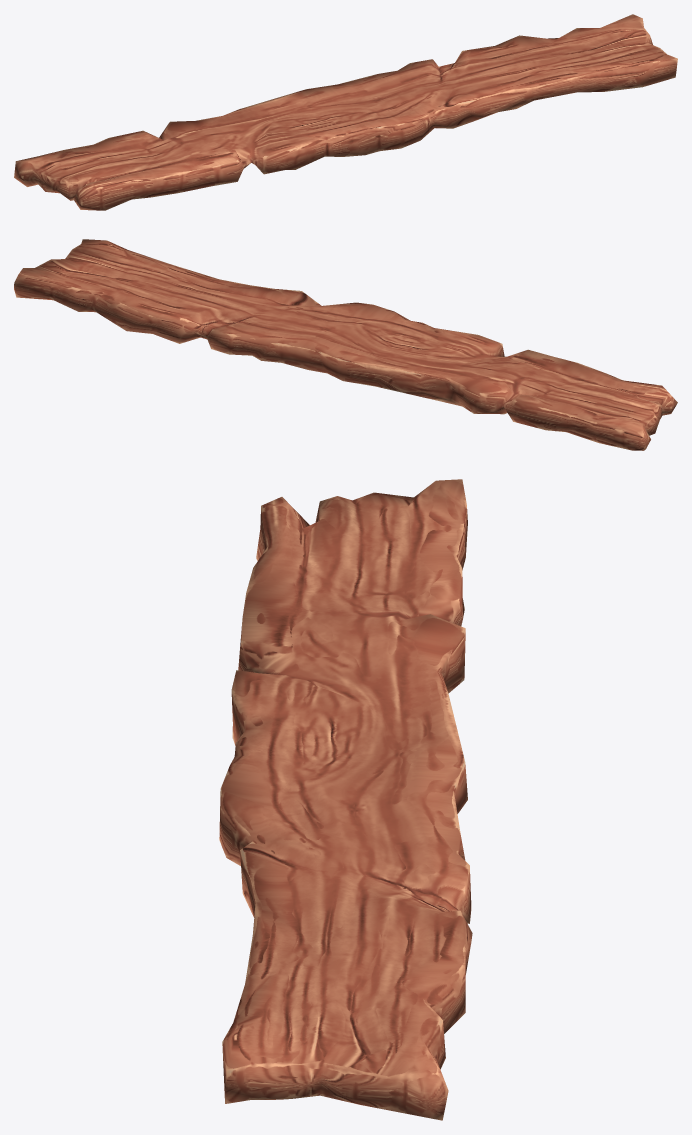
The model's file is plank1.fbx.
3 views of the same model, one above another, from view 1: azimuth 30°, elevation 25°; view 2: azimuth 150°, elevation 25°; view 3: azimuth 270°, elevation 25° (orthographic). The views are drawn at different scales.
Visible parts, largest first — view 1: Wood LP; view 2: Wood LP; view 3: Wood LP.
Boxes of the visible parts, box(x1,y1,x2,y2) form: Wood LP: box(14, 14, 677, 210); Wood LP: box(14, 239, 677, 450); Wood LP: box(219, 479, 472, 1120).
Bounding box in the file's own units: 1236 × 49.97 × 218.
1 material, 1 textured.
